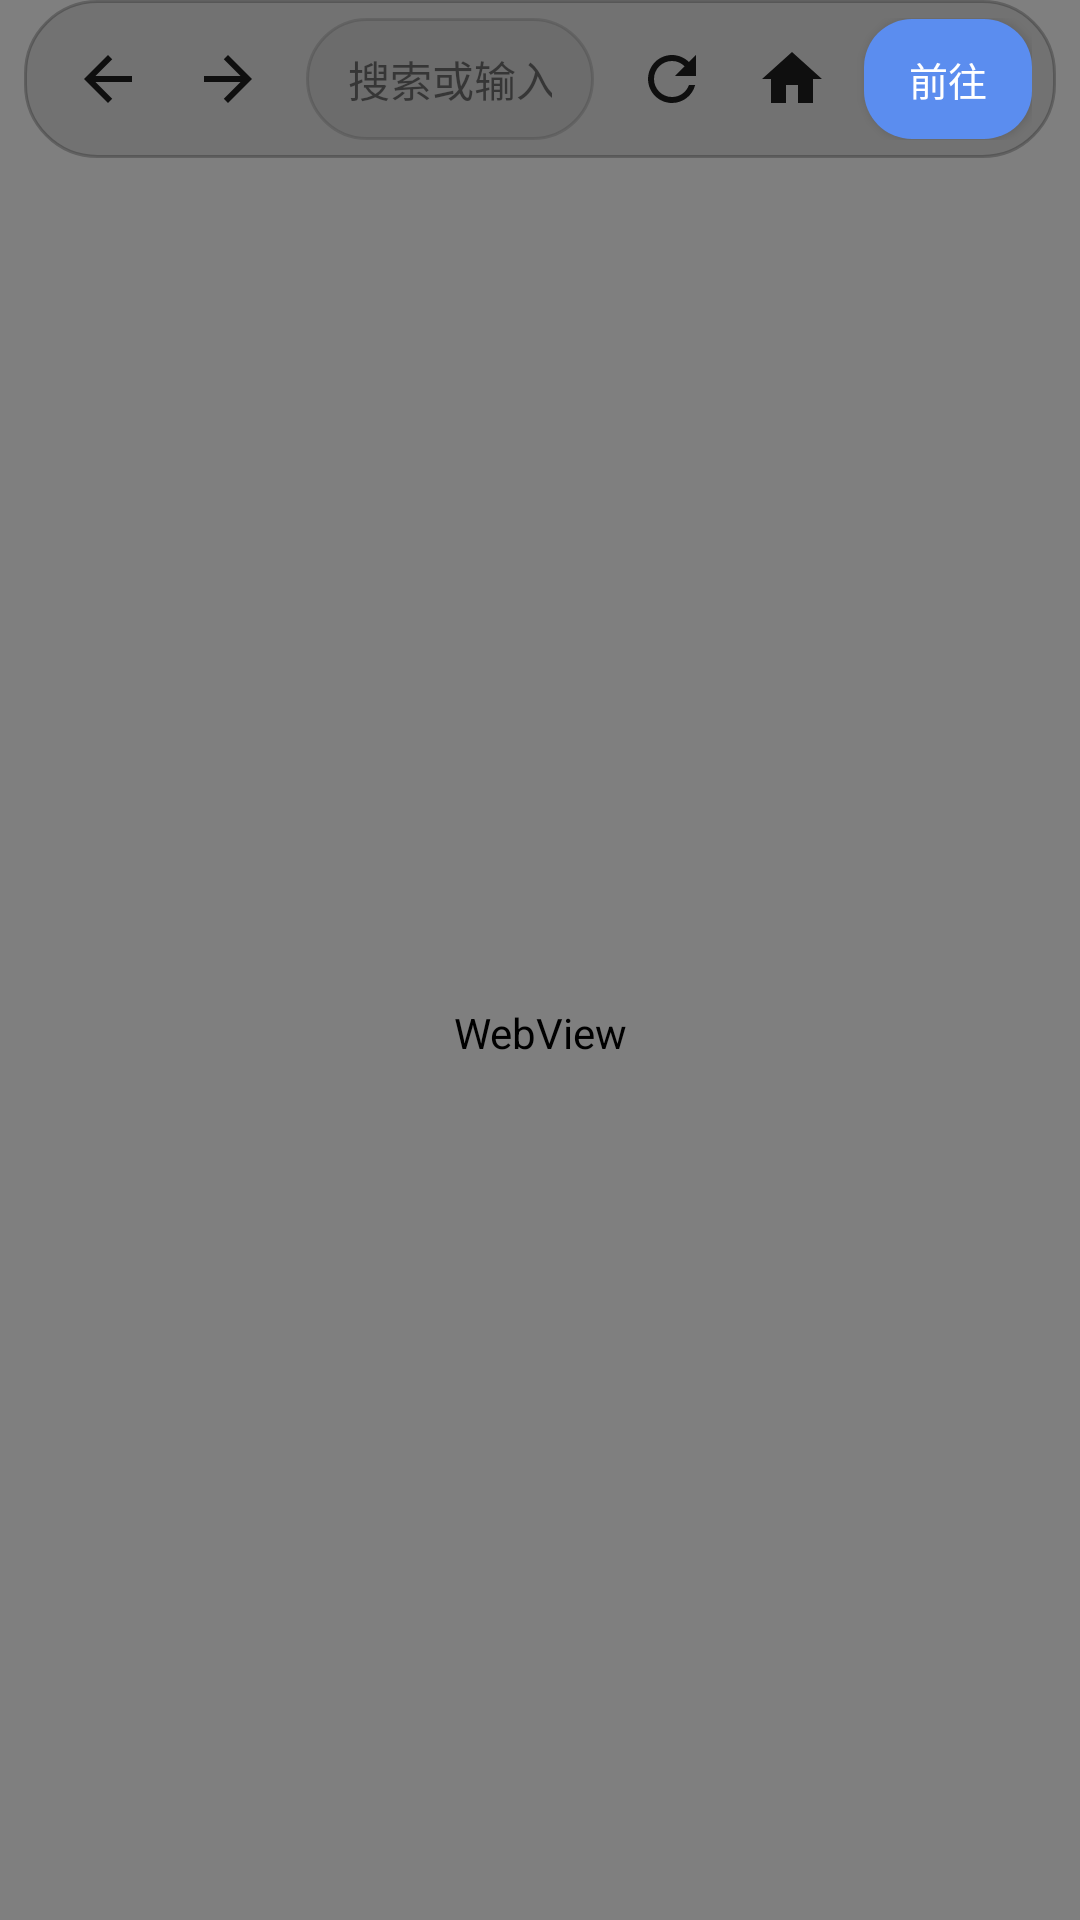

Where to tap for icons on this 1080×1920 app screen, as [x,y]:
主页: [792,77]
刷新: [672,79]
前进: [228,79]
后退: [108,79]
